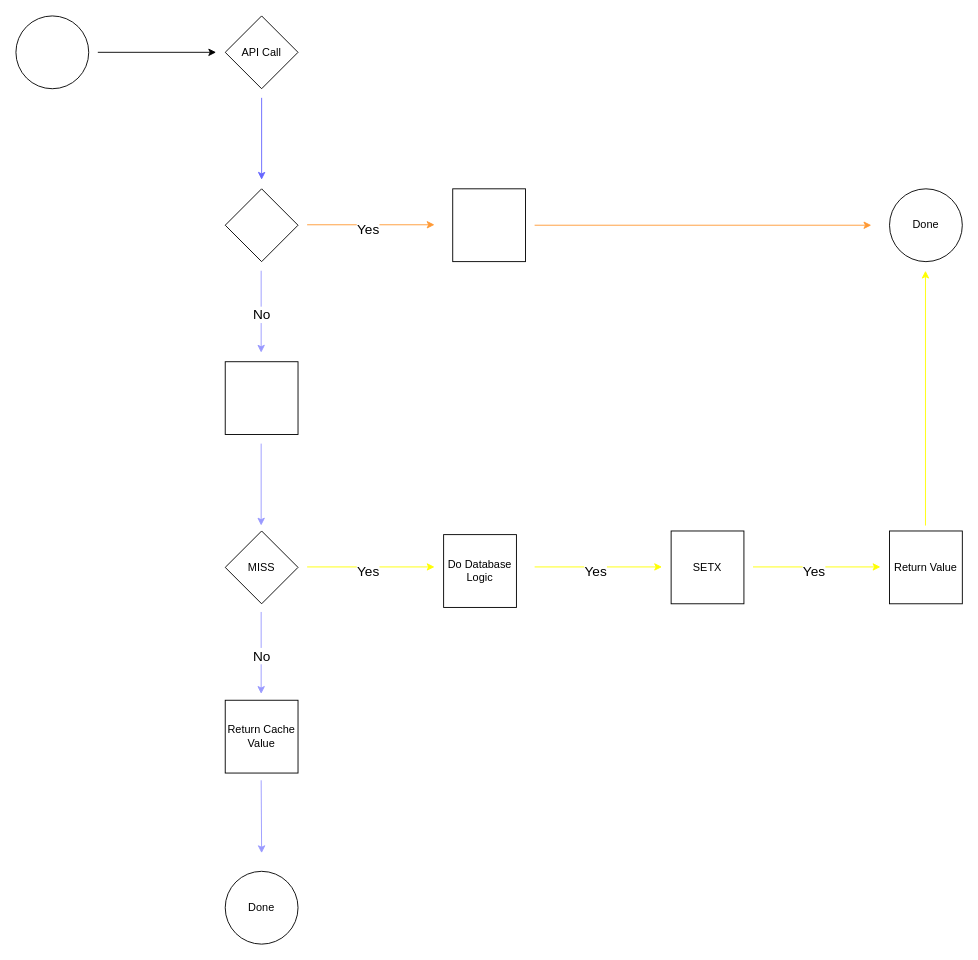
This 978x960 diagram has some shape labels left out. Each missing label, with the centre of its shape:
"GETX" belongs at point (261, 398).
"Return 304" belongs at point (489, 225).
"Start" belongs at point (52, 52).
"Validate E-Tag" belongs at point (261, 225).
